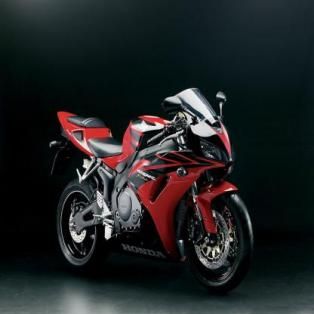Motocicleta: (45, 83, 254, 291)
